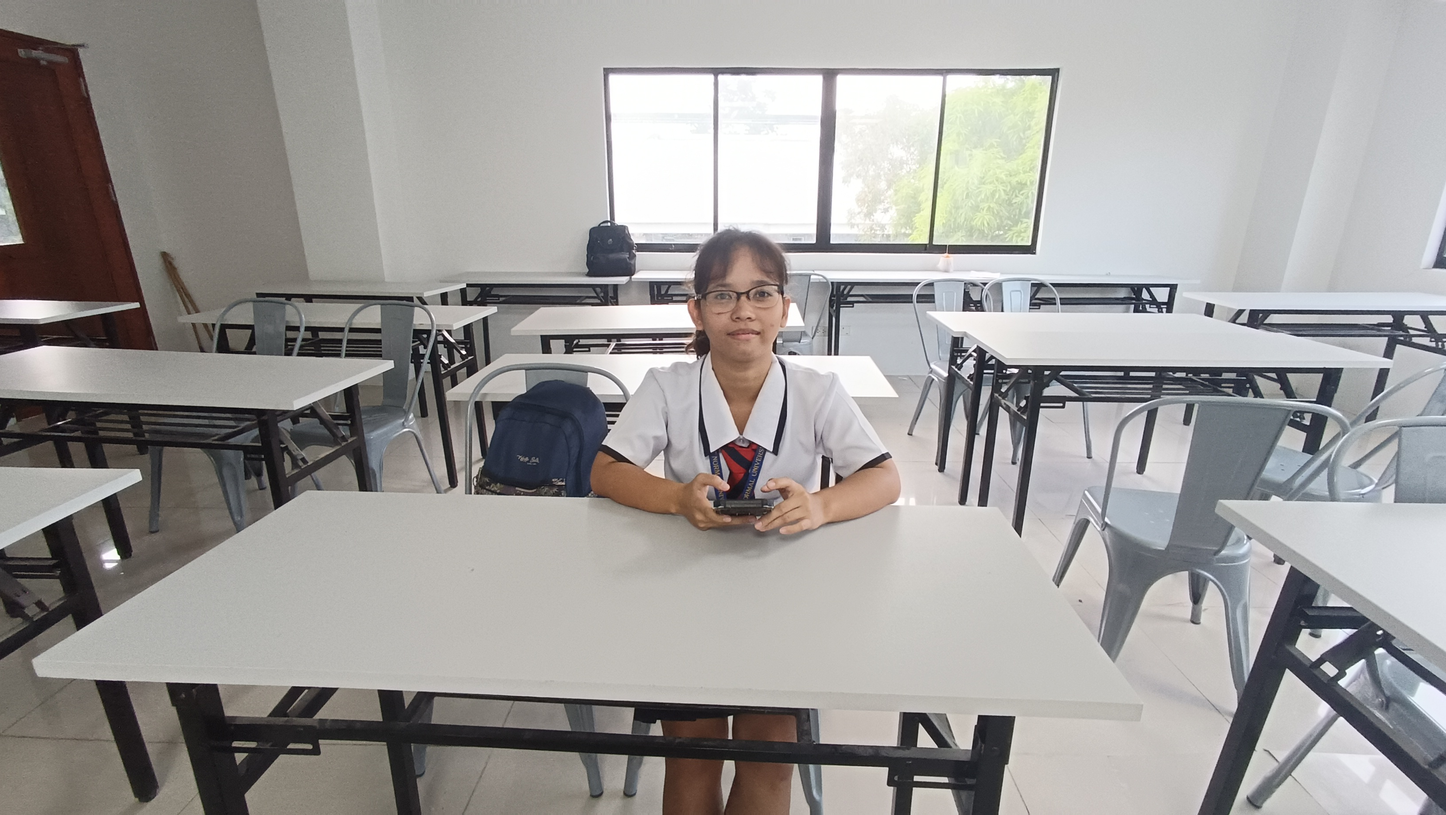with-student: (29, 211, 1152, 780)
